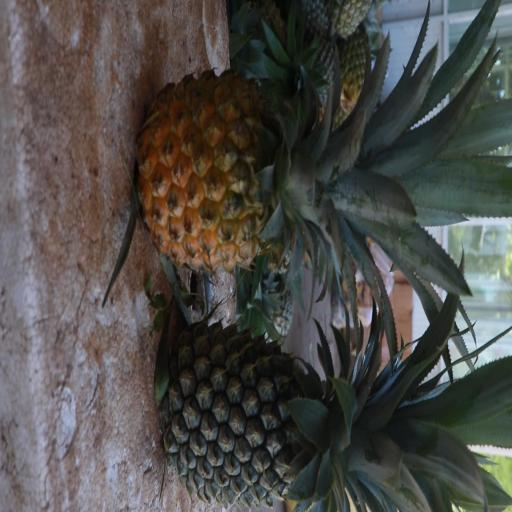Pineapple - v8 v1: (138, 87, 415, 269)
